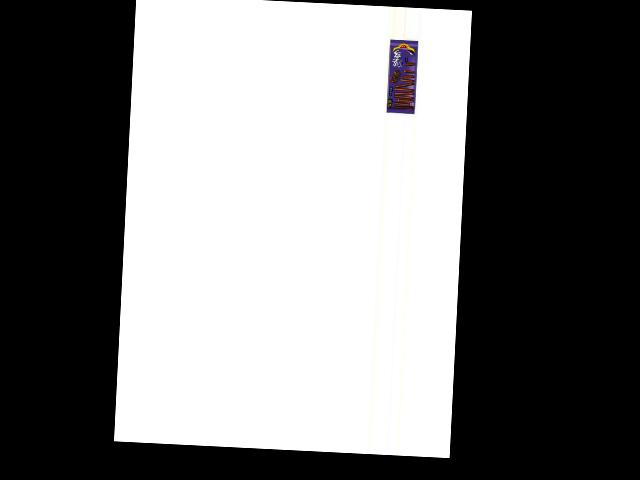chocolate: (385, 38, 422, 115)
